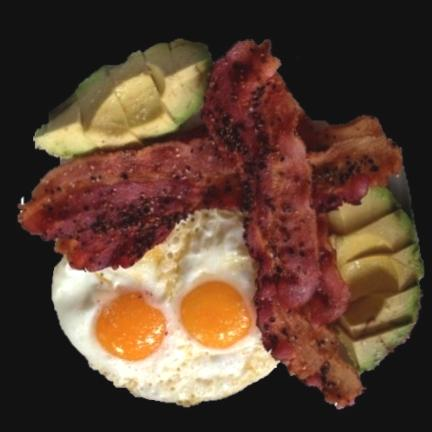egg: (50, 211, 277, 404)
green_vegetables: (35, 42, 212, 158), (321, 186, 423, 376)
meat: (13, 43, 403, 409)
